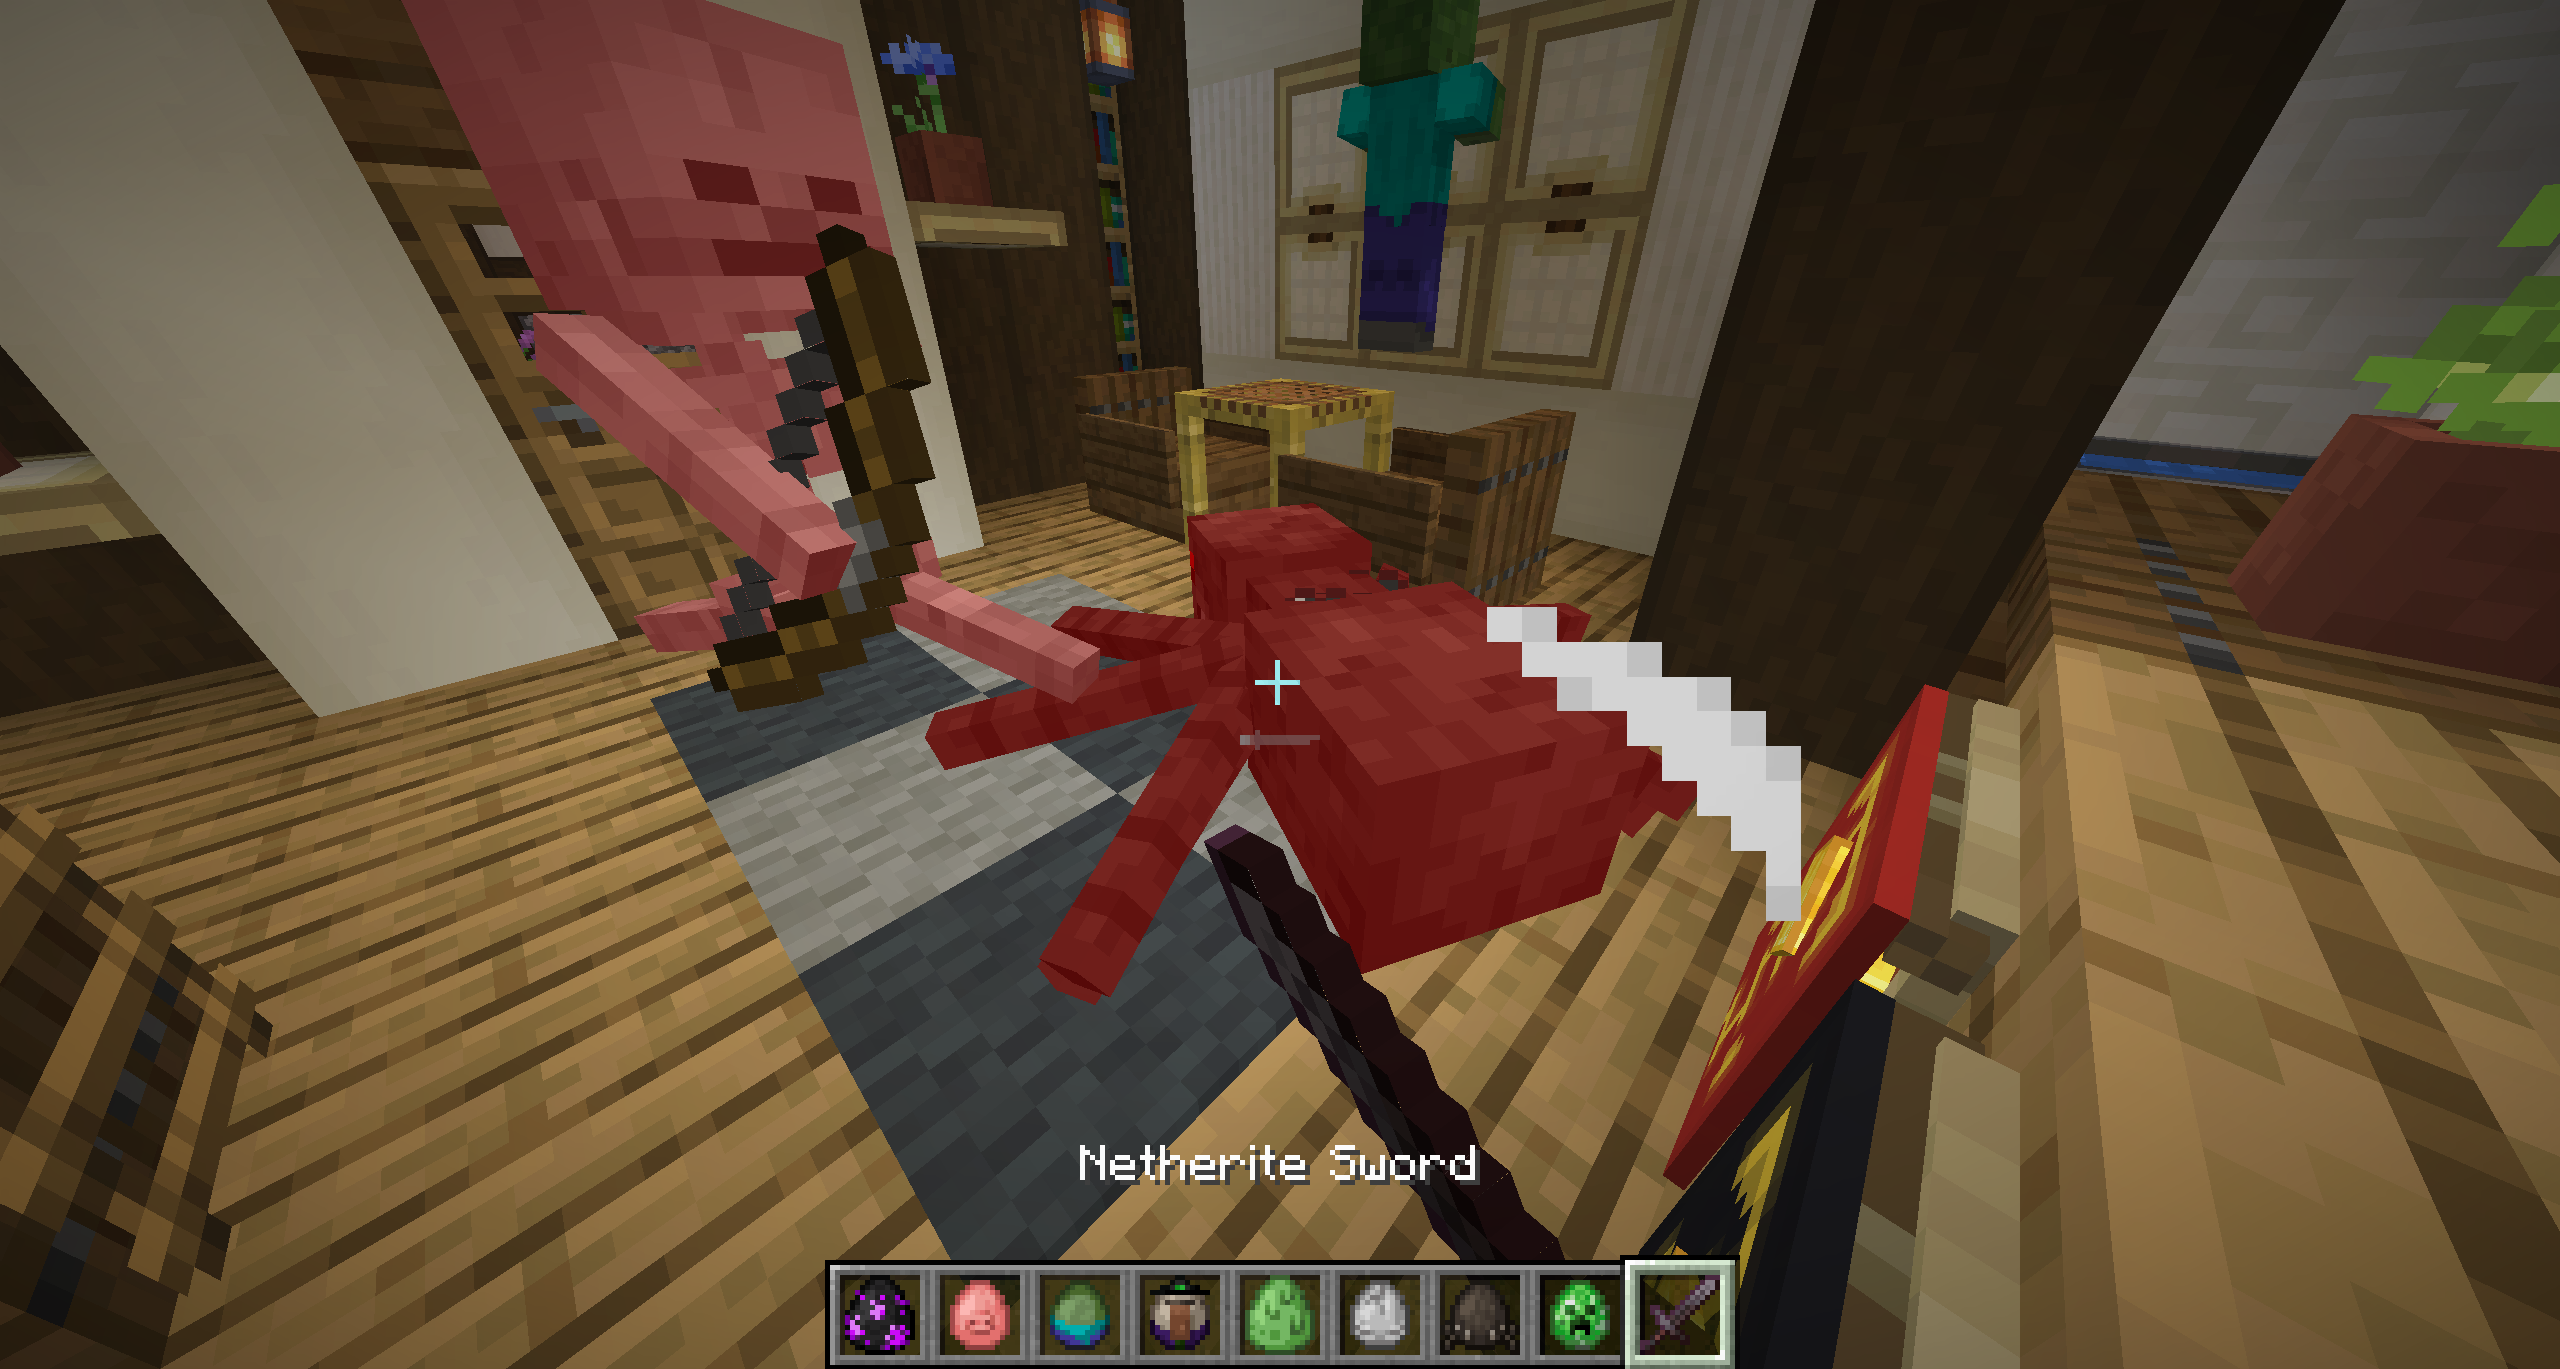squelettes: (394, 3, 1107, 712)
zombies: (1332, 0, 1512, 362)
